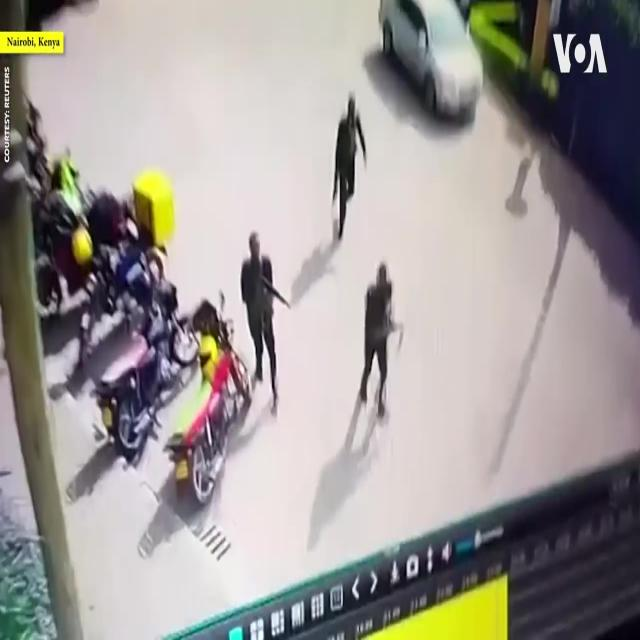Weapon: (248, 260, 300, 326), (367, 319, 422, 358), (326, 138, 338, 214)
